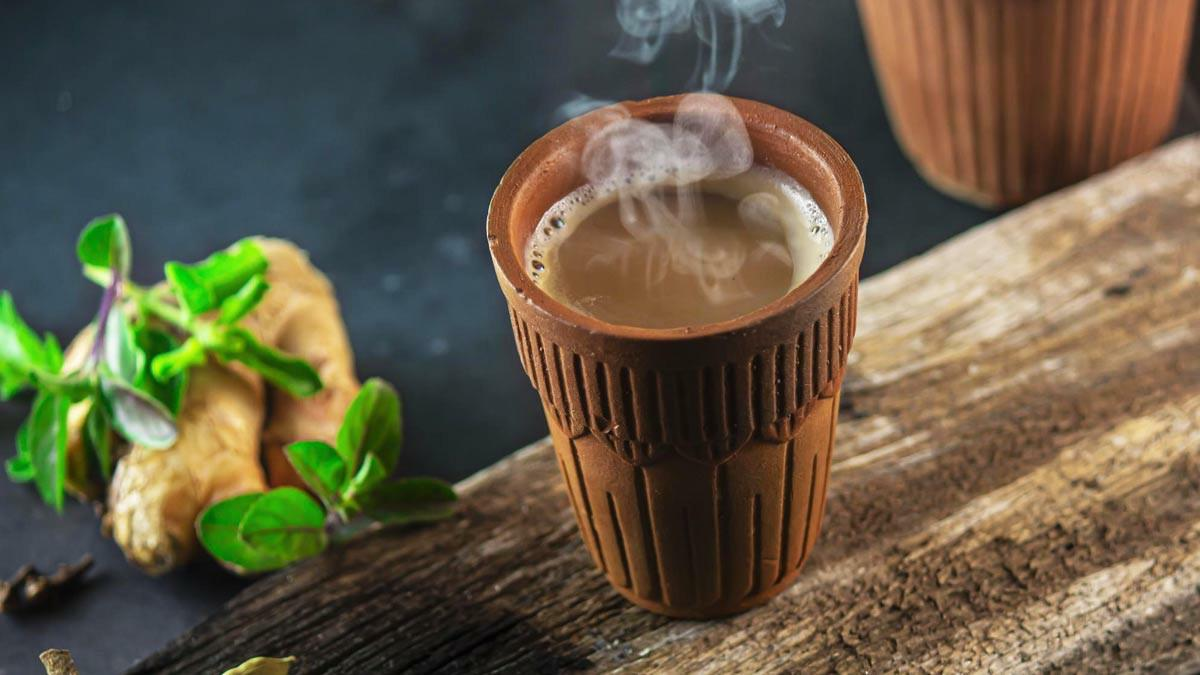Chai: (529, 165, 835, 329)
